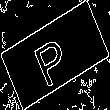P_NW: (32, 24, 78, 86)
